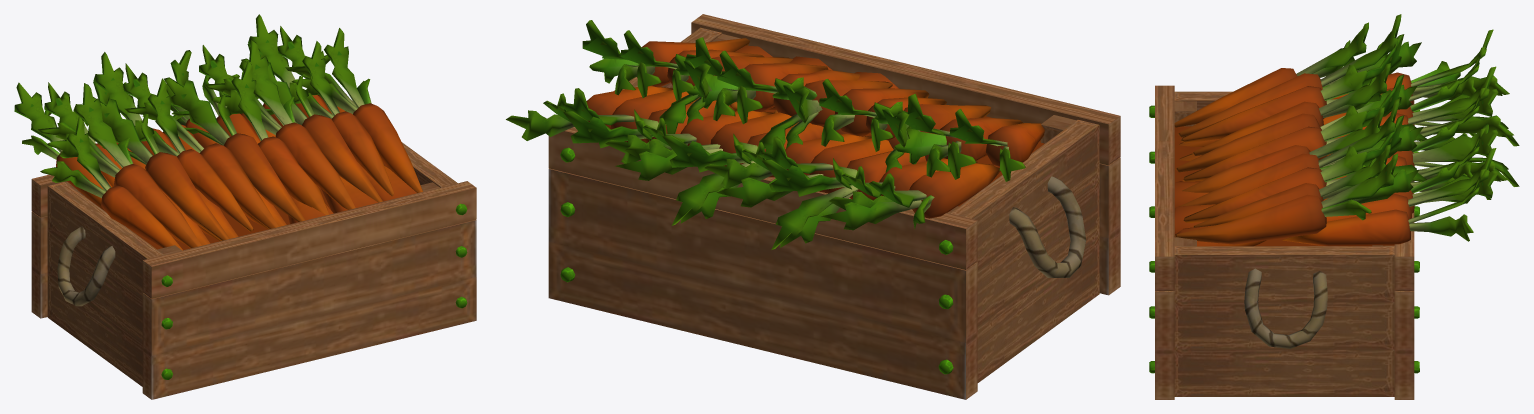
Rendered from farm_crate_carrot.glb.
3 views of the same model, side by side, from view 1: azimuth 30°, elevation 25°; view 2: azimuth 150°, elevation 25°; view 3: azimuth 270°, elevation 25° (orthographic). The views are drawn at different scales.
Visible parts, largest first — view 1: FarmCrate_Carrot; view 2: FarmCrate_Carrot; view 3: FarmCrate_Carrot.
Boxes of the visible parts, bbox=[...] form: FarmCrate_Carrot: bbox=[14, 14, 476, 399]; FarmCrate_Carrot: bbox=[506, 14, 1120, 399]; FarmCrate_Carrot: bbox=[1149, 14, 1519, 399].
Bounding box in the file's own units: 0.7138 × 0.4113 × 0.567.
3 materials, 3 textured.
